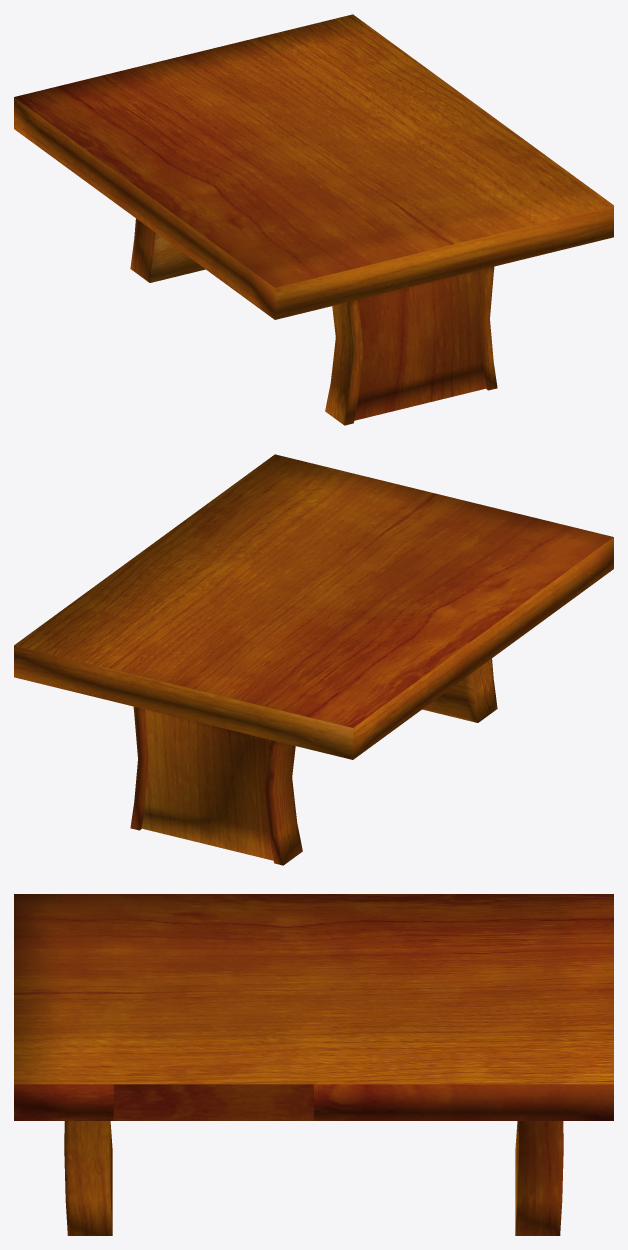
The model's file is table.fbx.
The picture shows the model from 3 angles, top to bottom: view 1: azimuth 30°, elevation 25°; view 2: azimuth 150°, elevation 25°; view 3: azimuth 270°, elevation 25°; orthographic projection. The views are drawn at different scales.
Parts seen in each view (by area): view 1: objets:T2_table; view 2: objets:T2_table; view 3: objets:T2_table.
Boxes of the visible parts, <box> form: objets:T2_table: <box>14,14,613,425</box>; objets:T2_table: <box>14,454,613,865</box>; objets:T2_table: <box>14,894,613,1235</box>.
Bounding box in the file's own units: 59.06 × 29.53 × 78.74.
